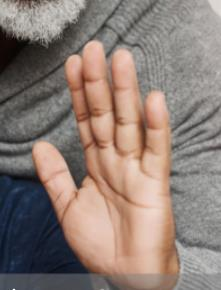down: (30, 36, 175, 270)
